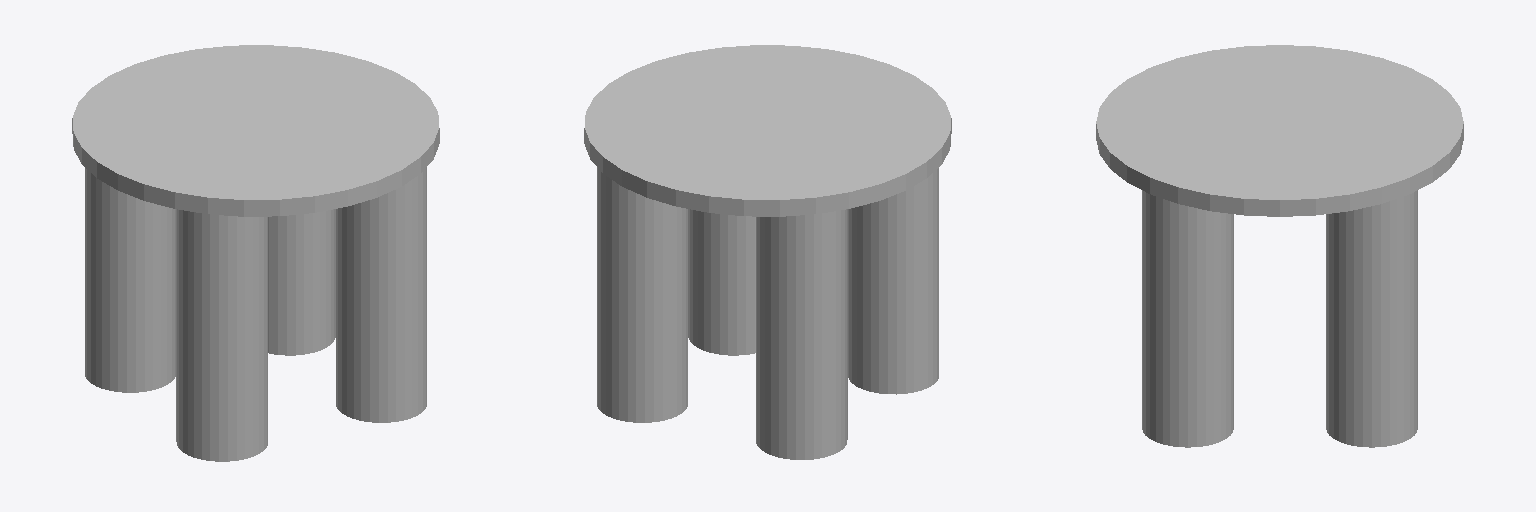
File: chair.obj
The picture shows the model from 3 angles: view 1: azimuth 30°, elevation 25°; view 2: azimuth 150°, elevation 25°; view 3: azimuth 270°, elevation 25°; orthographic projection.
Parts seen in each view (by area): view 1: Cylinder.001, Cylinder, Cylinder.004, Cylinder.003, Cylinder.002; view 2: Cylinder.001, Cylinder.003, Cylinder.002, Cylinder, Cylinder.004; view 3: Cylinder.001, Cylinder.002, Cylinder.004.
Part boxes in pixels (left/top/right/bottom): Cylinder.001: left=72, top=45, right=439, bottom=216; Cylinder: left=176, top=209, right=267, bottom=461; Cylinder.004: left=336, top=167, right=426, bottom=422; Cylinder.003: left=85, top=168, right=175, bottom=392; Cylinder.002: left=268, top=209, right=335, bottom=355; Cylinder.001: left=584, top=45, right=951, bottom=216; Cylinder.003: left=756, top=209, right=847, bottom=459; Cylinder.002: left=597, top=167, right=687, bottom=422; Cylinder: left=848, top=168, right=938, bottom=394; Cylinder.004: left=688, top=209, right=755, bottom=355; Cylinder.001: left=1096, top=45, right=1463, bottom=216; Cylinder.002: left=1326, top=190, right=1417, bottom=447; Cylinder.004: left=1142, top=190, right=1233, bottom=447.
Size of the model in its own units: 2 by 1.6 by 2.